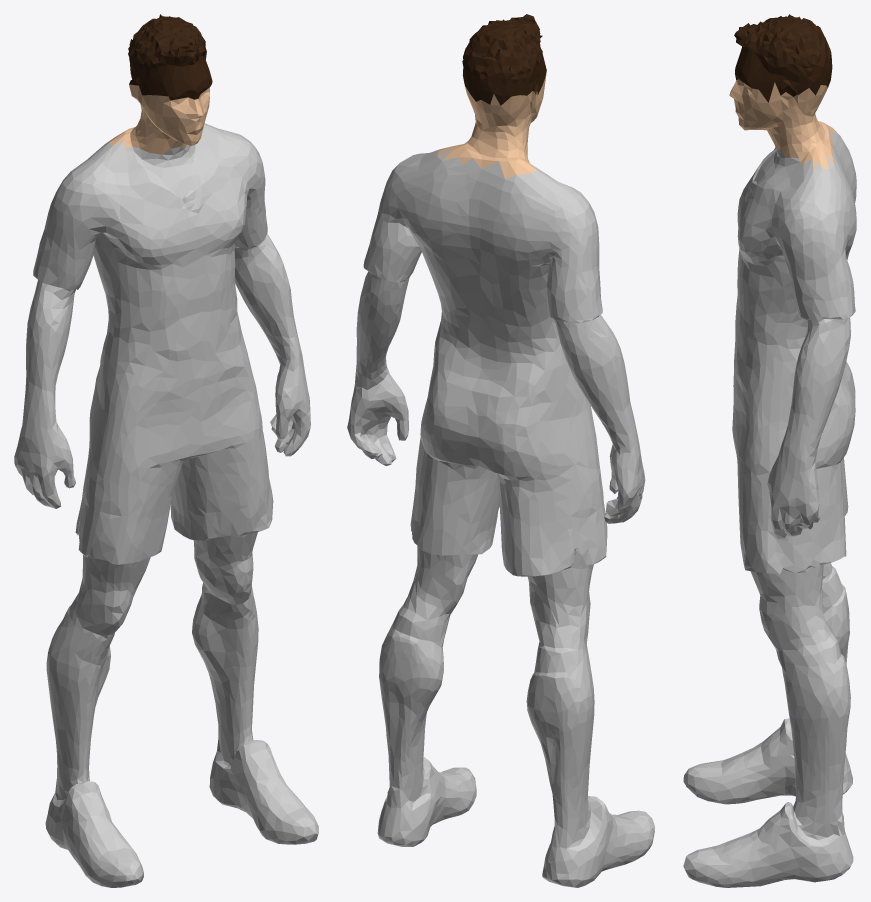
Rendered from teamA_player_02.obj.
3 renders of one model, left to right at view 1: azimuth 30°, elevation 25°; view 2: azimuth 150°, elevation 25°; view 3: azimuth 270°, elevation 25°, orthographic.
Parts seen in each view (by area): view 1: teamA_player_02_Mesh; view 2: teamA_player_02_Mesh; view 3: teamA_player_02_Mesh.
Part boxes in pixels (x1,y1,x2,y2): teamA_player_02_Mesh: [14, 14, 318, 887]; teamA_player_02_Mesh: [347, 14, 654, 887]; teamA_player_02_Mesh: [683, 14, 856, 887].
Size of the model in its own units: 0.6564 by 1.8 by 0.3463.
